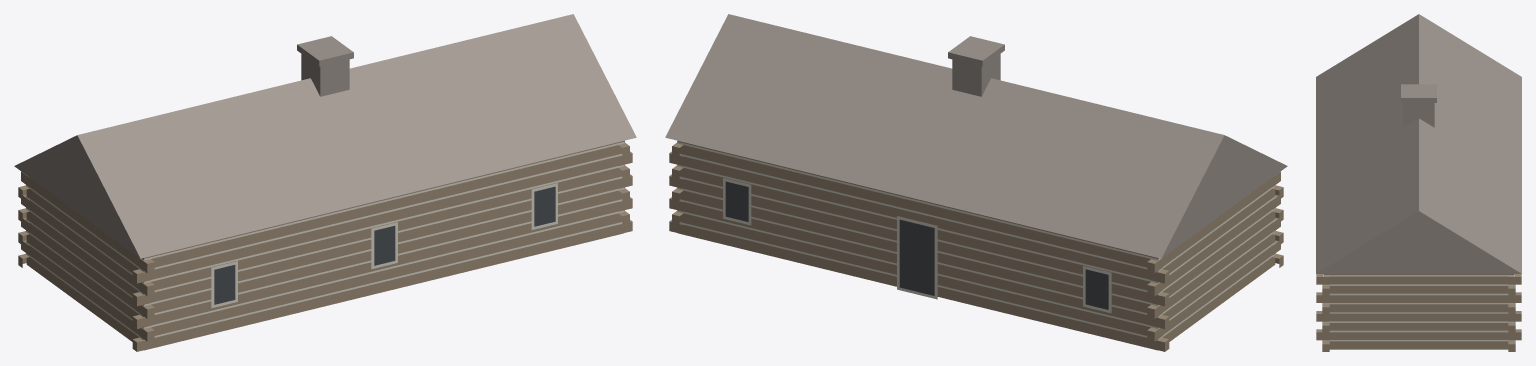
The model's file is fort_dearborn_sutlers_store__log_1816.glb.
3 views of the same model, side by side, from view 1: azimuth 30°, elevation 25°; view 2: azimuth 150°, elevation 25°; view 3: azimuth 270°, elevation 25° (orthographic). The views are drawn at different scales.
Visible parts, largest first — view 1: fort_dearborn_sutlers_store__log_1816; view 2: fort_dearborn_sutlers_store__log_1816; view 3: fort_dearborn_sutlers_store__log_1816.
Boxes of the visible parts, box(x1,y1,x2,y2) form: fort_dearborn_sutlers_store__log_1816: box(14, 14, 636, 351); fort_dearborn_sutlers_store__log_1816: box(665, 14, 1287, 351); fort_dearborn_sutlers_store__log_1816: box(1316, 14, 1521, 351).
Bounding box in the file's own units: 15.51 × 6.06 × 6.85.
